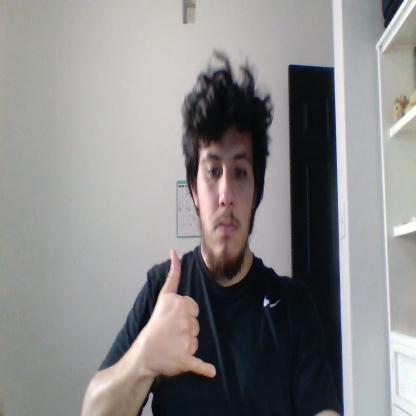Y: (148, 247, 217, 378)
